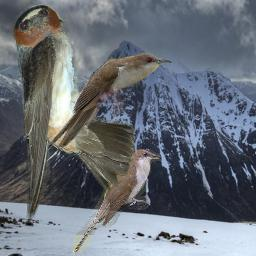Cuckoo: (47, 53, 172, 147), (73, 149, 162, 253)
Swallow: (12, 4, 134, 222)
